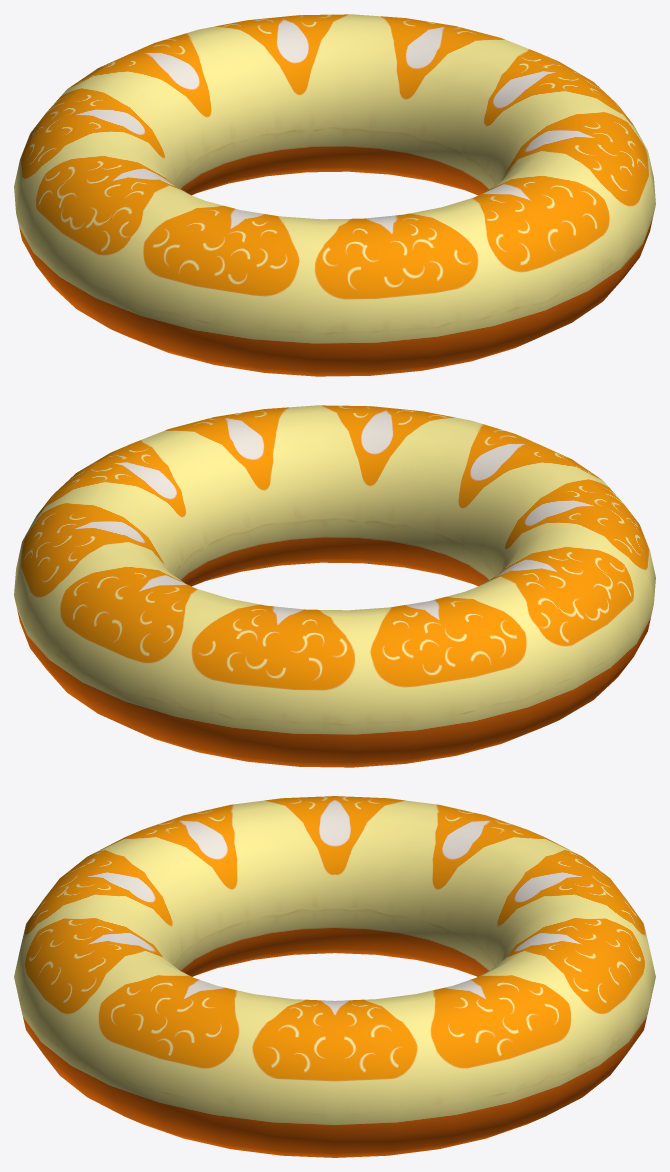
The model's file is PoolRing01_2.FBX.
3 views of the same model, one above another, from view 1: azimuth 30°, elevation 25°; view 2: azimuth 150°, elevation 25°; view 3: azimuth 270°, elevation 25° (orthographic).
Parts seen in each view (by area): view 1: PoolRing01_2; view 2: PoolRing01_2; view 3: PoolRing01_2.
Part boxes in pixels (bbox=[...]): PoolRing01_2: bbox=[14, 14, 655, 376]; PoolRing01_2: bbox=[14, 405, 655, 767]; PoolRing01_2: bbox=[14, 796, 655, 1157].
Size of what is drawn, in the model's own units: 0.882 by 0.216 by 0.882.
